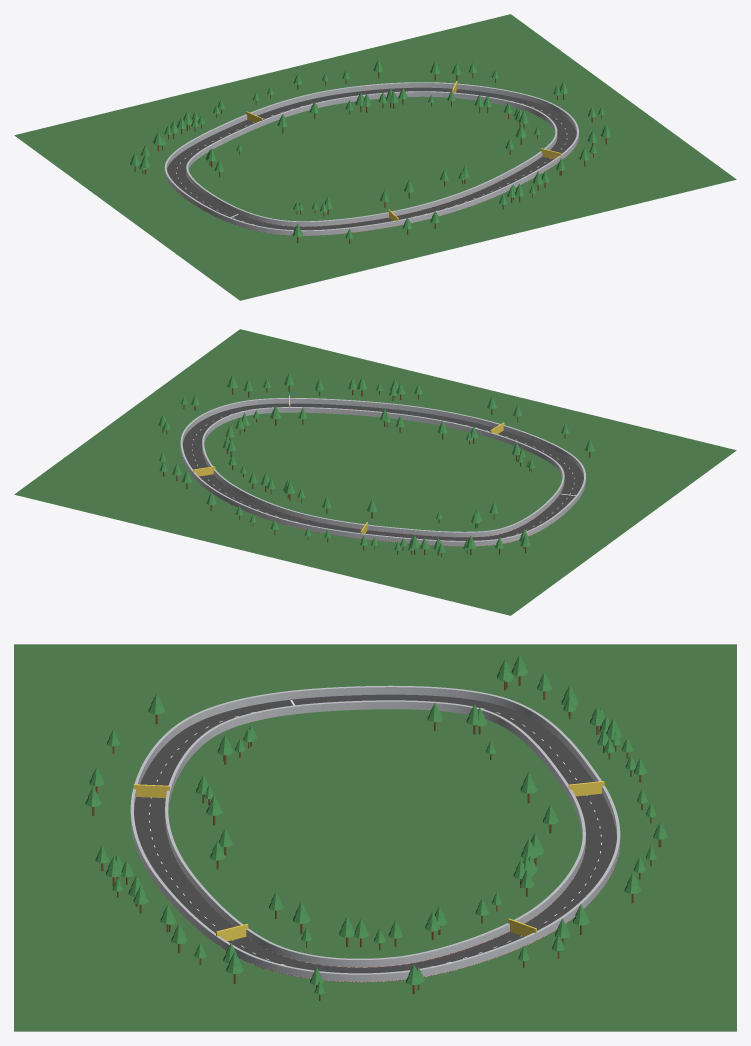
The model's file is racetrack_arcade_big.glb.
3 renders of one model, top to bottom at view 1: azimuth 30°, elevation 25°; view 2: azimuth 150°, elevation 25°; view 3: azimuth 270°, elevation 25°, orthographic. The views are drawn at different scales.
Parts seen in each view (by area): view 1: Ground, Road, RightWall, LeftWall; view 2: Ground, Road, RightWall, LeftWall; view 3: Ground, Road, RightWall, LeftWall.
Part boxes in pixels (bbox=[...]): Ground: bbox=[14, 14, 736, 300]; Road: bbox=[167, 87, 576, 230]; RightWall: bbox=[164, 82, 578, 235]; LeftWall: bbox=[186, 91, 557, 226]; Ground: bbox=[14, 329, 736, 615]; Road: bbox=[182, 403, 583, 540]; RightWall: bbox=[180, 398, 585, 546]; LeftWall: bbox=[202, 407, 564, 536]; Ground: bbox=[14, 644, 736, 1031]; Road: bbox=[134, 694, 616, 973]; RightWall: bbox=[130, 685, 620, 981]; LeftWall: bbox=[165, 700, 585, 967].
Size of the model in its own units: 352 by 13.92 by 277.
